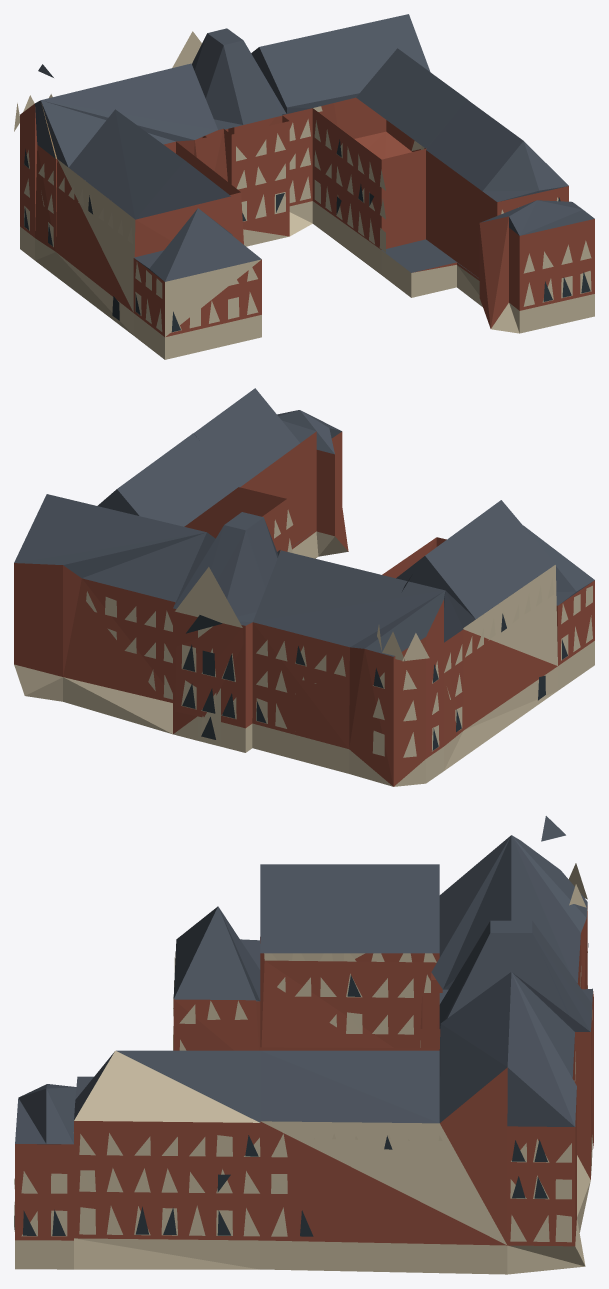
The model's file is conservatorium.lod2.glb.
3 renders of one model, top to bottom at view 1: azimuth 30°, elevation 25°; view 2: azimuth 150°, elevation 25°; view 3: azimuth 270°, elevation 25°, orthographic. The views are drawn at different scales.
Parts seen in each view (by area): view 1: lod2; view 2: lod2; view 3: lod2.
Part boxes in pixels (bbox=[...]): lod2: bbox=[14, 14, 594, 359]; lod2: bbox=[14, 388, 594, 786]; lod2: bbox=[14, 816, 593, 1274].
Size of the model in its own units: 66.37 by 31.12 by 68.95.
